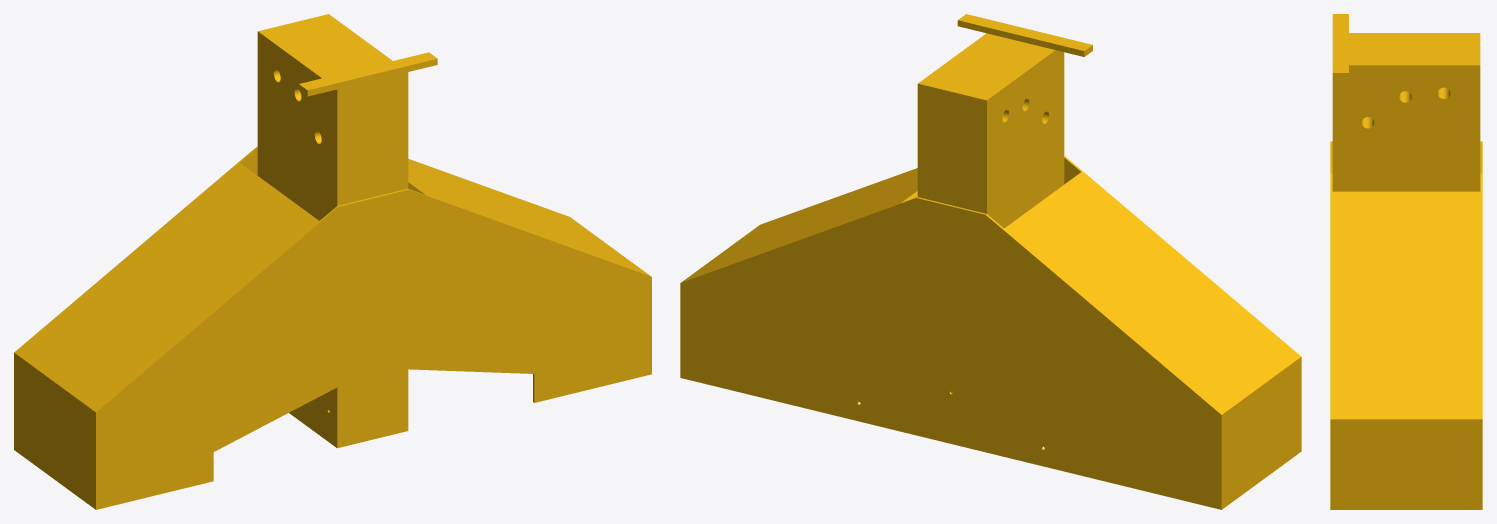
File: BLOCK CAD FIELD - BLOCK CAD- TRENCH, HINGED BASE, RED.gltf
The picture shows the model from 3 angles, left to right: view 1: azimuth 30°, elevation 25°; view 2: azimuth 150°, elevation 25°; view 3: azimuth 270°, elevation 25°; orthographic projection. The views are drawn at different scales.
Visible parts, largest first — view 1: BLOCK CAD: TRENCH, HINGED BASE, RED; view 2: BLOCK CAD: TRENCH, HINGED BASE, RED; view 3: BLOCK CAD: TRENCH, HINGED BASE, RED.
Boxes of the visible parts, x1,y1,x2,y2 form: BLOCK CAD: TRENCH, HINGED BASE, RED: (14, 14, 651, 509); BLOCK CAD: TRENCH, HINGED BASE, RED: (680, 14, 1301, 509); BLOCK CAD: TRENCH, HINGED BASE, RED: (1330, 14, 1482, 509).
Size of the model in its own units: 1.19 by 0.7525 by 0.3048.
